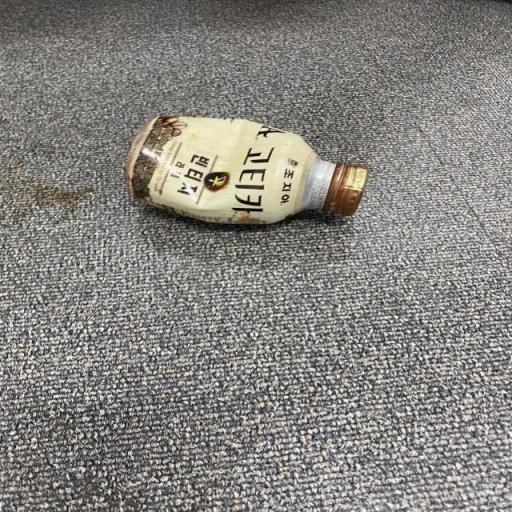metal: (94, 97, 391, 238)
